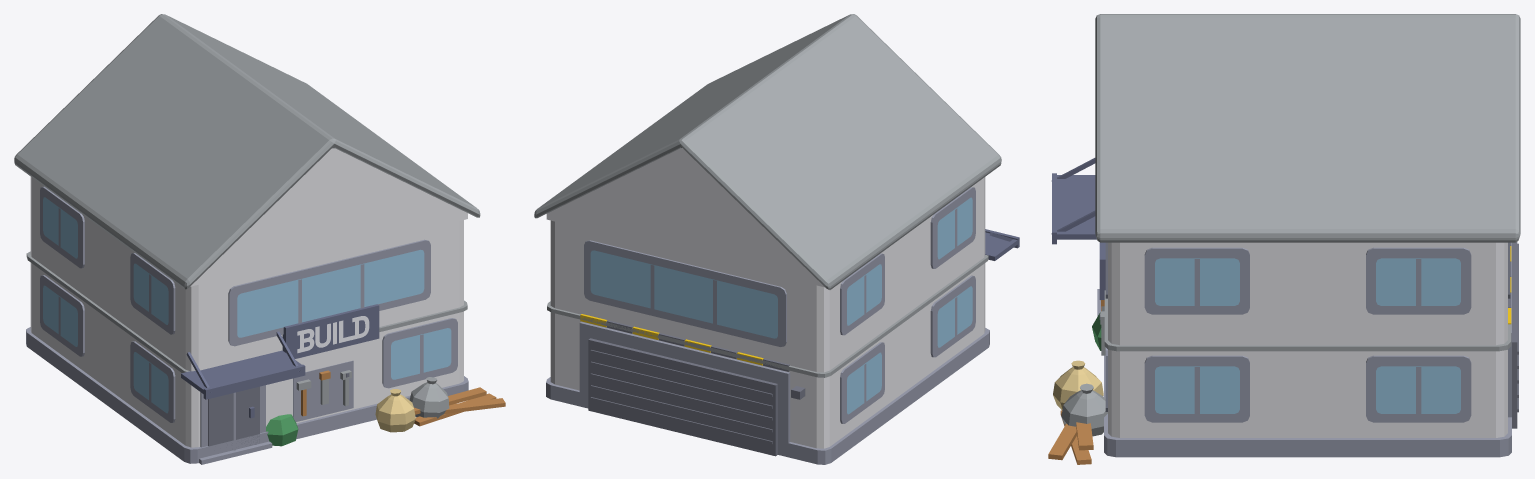
The model's file is shop-construction-1x1-t2-tone-a.glb.
3 views of the same model, side by side, from view 1: azimuth 30°, elevation 25°; view 2: azimuth 150°, elevation 25°; view 3: azimuth 270°, elevation 25° (orthographic). The views are drawn at different scales.
Parts seen in each view (by area): view 1: shop-construction-1x1-t2-tone-a; view 2: shop-construction-1x1-t2-tone-a; view 3: shop-construction-1x1-t2-tone-a.
Boxes of the visible parts, x1,y1,x2,y2 form: shop-construction-1x1-t2-tone-a: (14, 14, 505, 464); shop-construction-1x1-t2-tone-a: (534, 14, 1019, 464); shop-construction-1x1-t2-tone-a: (1048, 14, 1520, 464).
Size of the model in its own units: 1 by 0.9345 by 1.11.
1 material, 1 textured.
